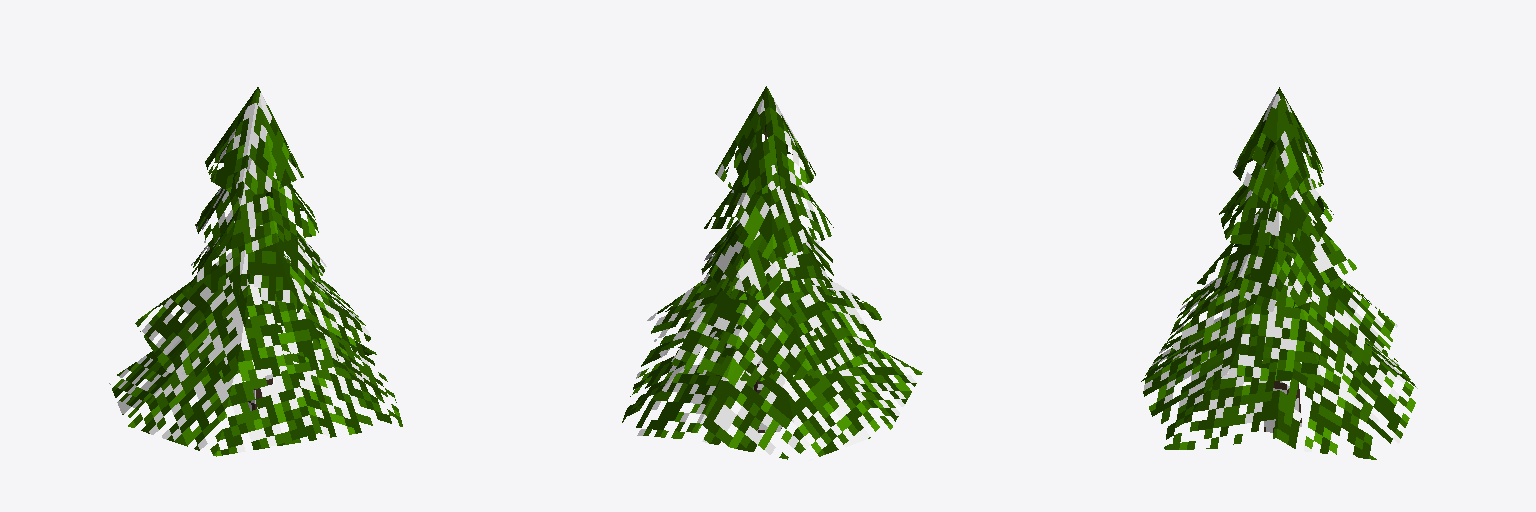
The picture shows the model from 3 angles: view 1: azimuth 30°, elevation 25°; view 2: azimuth 150°, elevation 25°; view 3: azimuth 270°, elevation 25°; orthographic projection.
Visible parts, largest first — view 1: Cylinder; view 2: Cylinder; view 3: Cylinder.
Part boxes in pixels (x1,y1,x2,y2): Cylinder: (109,87,402,456); Cylinder: (622,86,922,460); Cylinder: (1141,87,1417,459).
Bounding box in the file's own units: 1.73 × 2.23 × 1.67.
1 materials, 1 textured.